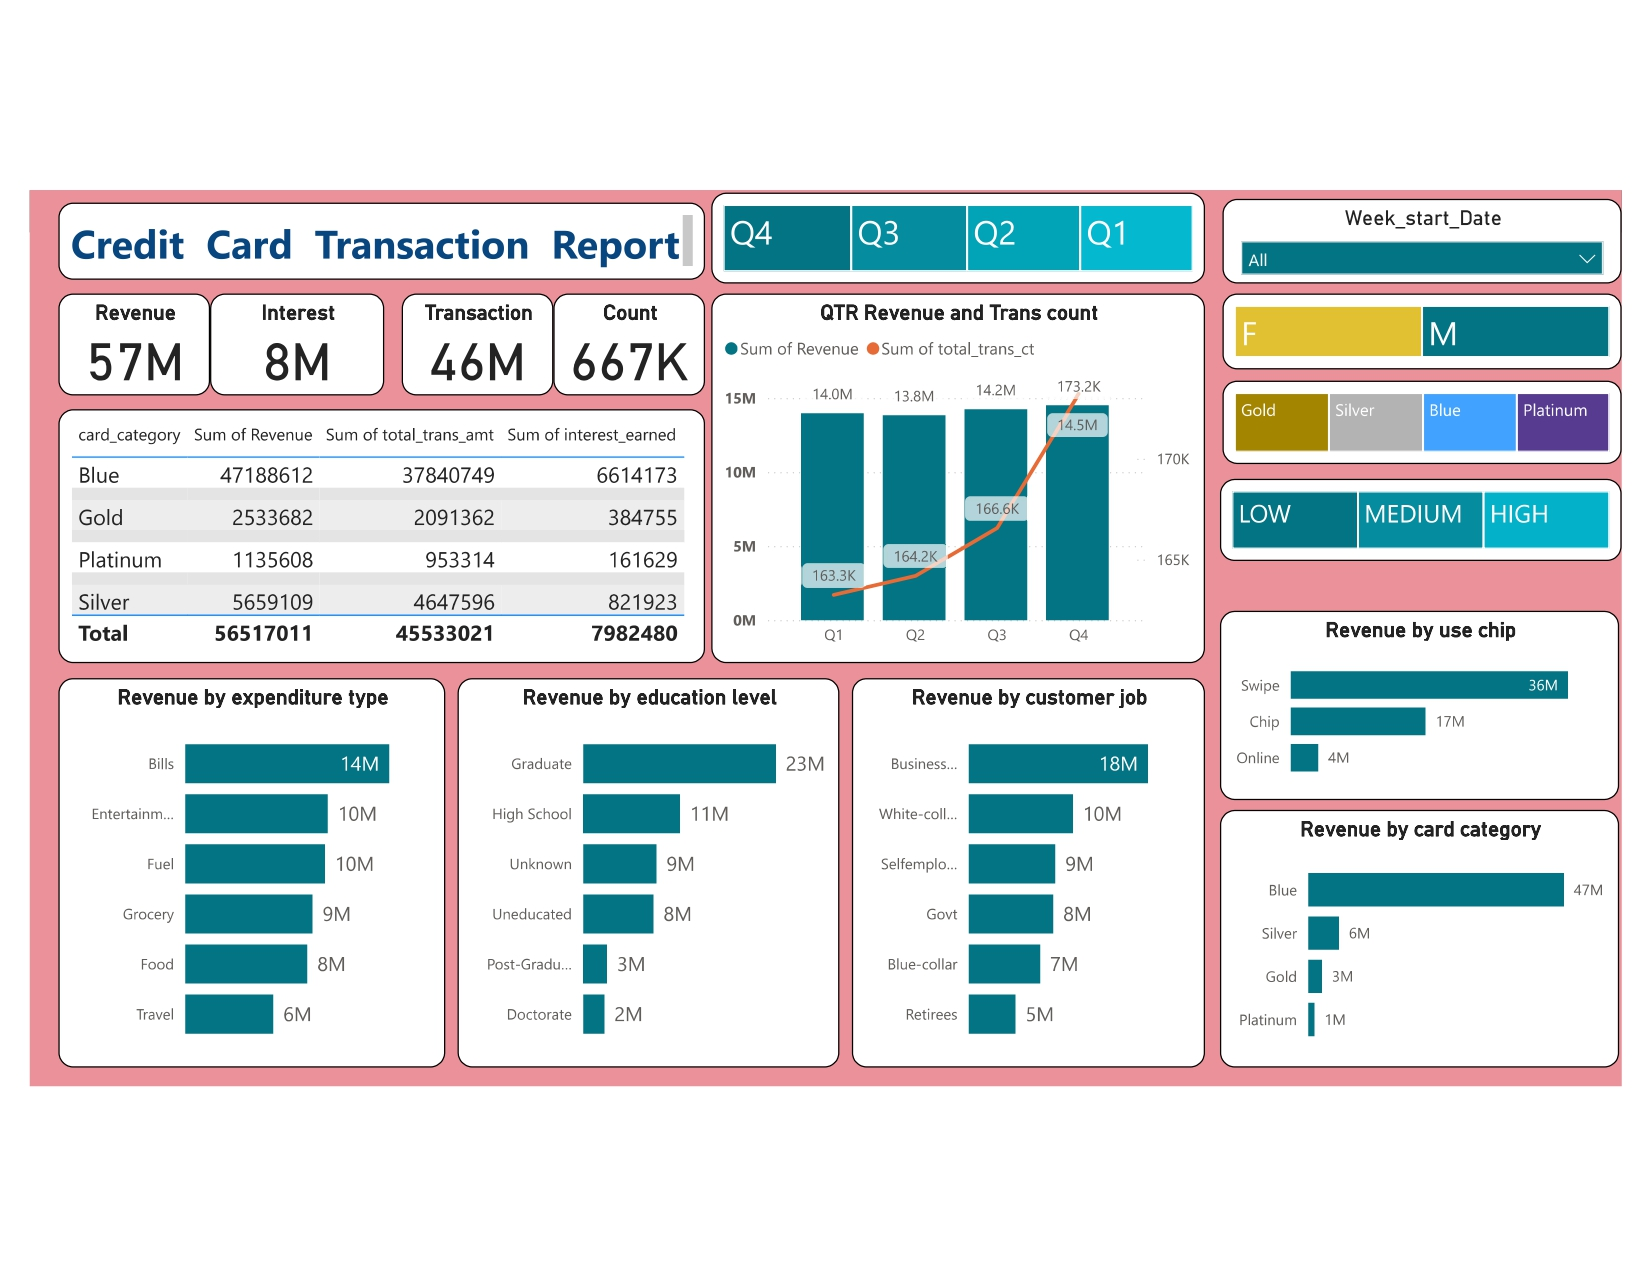

This screenshot's page, from the dashboard's own definition file:
{"tool":"powerbi","page":{"name":"CC Transaction","canvas":[1280,720],"ordinal":0},"visuals":[{"type":"textbox","box":[22.9,9.7,520,62.7],"z":0},{"type":"lineStackedColumnComboChart","title":"QTR Revenue and Trans count","fields":{"Category":["public cc_detail.qtr"],"Y":["Sum(public cc_detail.Revenue)"],"Y2":["Sum(public cc_detail.total_trans_ct)"]},"box":[547.7,83.2,396.9,296.8],"z":1000},{"type":"barChart","title":"Revenue by expenditure type","fields":{"Y":["Sum(public cc_detail.Revenue)"],"Category":["public cc_detail.exp_type"]},"box":[22.9,392.1,311.3,312.5],"z":2000},{"type":"barChart","title":"Revenue by education level","fields":{"Y":["Sum(public cc_detail.Revenue)"],"Category":["public cust_detail.education_level"]},"box":[343.8,392.1,307.6,312.5],"z":3000},{"type":"barChart","title":"Revenue by customer job","fields":{"Y":["Sum(public cc_detail.Revenue)"],"Category":["public cust_detail.customer_job"]},"box":[661.1,392.1,283.5,312.5],"z":4000},{"type":"barChart","title":"Revenue by card category","fields":{"Y":["Sum(public cc_detail.Revenue)"],"Category":["public cc_detail.card_category"]},"box":[956.7,498.3,320.9,206.3],"z":5000},{"type":"barChart","title":"Revenue by use chip","fields":{"Y":["Sum(public cc_detail.Revenue)"],"Category":["public cc_detail.use_chip"]},"box":[956.7,337.8,320.9,152],"z":6000},{"type":"tableEx","fields":{"Values":["public cc_detail.card_category","Sum(public cc_detail.Revenue)","Sum(public cc_detail.total_trans_amt)","Sum(public cc_detail.interest_earned)"]},"box":[22.9,176.1,520,203.9],"z":7000},{"type":"card","title":"Revenue","fields":{"Values":["Sum(public cc_detail.Revenue)"]},"box":[22.9,83.2,121.9,82],"z":8000},{"type":"card","title":"Interest","fields":{"Values":["Sum(public cc_detail.interest_earned)"]},"box":[144.8,83.2,139.9,82],"z":9000},{"type":"card","title":"Transaction","fields":{"Values":["Sum(public cc_detail.total_trans_amt)"]},"box":[299.2,83.2,121.9,82],"z":10000},{"type":"card","title":"Count","fields":{"Values":["Sum(public cc_detail.total_trans_ct)"]},"box":[421,83.2,122,82],"z":11000},{"type":"slicer","title":"Week_start_Date","fields":{"Values":["public cc_detail.week_start_date"]},"box":[959.1,7.2,320.9,67.6],"z":12000},{"type":"treemap","fields":{"Group":["public cc_detail.qtr"],"Values":["Avg(public cc_detail.client_num)"]},"box":[547.7,2.4,396.9,72.4],"z":13000},{"type":"treemap","fields":{"Group":["public cust_detail.gender"],"Values":["Avg(public cc_detail.client_num)"]},"box":[959.1,83.2,320.9,60.3],"z":14000},{"type":"treemap","fields":{"Group":["public cc_detail.card_category"],"Values":["Avg(public cc_detail.client_num)"]},"box":[959.1,153.2,320.9,66.4],"z":15000},{"type":"treemap","fields":{"Group":["public cust_detail.IncomeGroup"],"Values":["Avg(public cc_detail.client_num)"]},"box":[956.7,231.6,323.3,66.4],"z":16000}]}

Visuals, with their boxes in screenshot pixels (x1, y1, x2, y2):
textbox: {"x1": 67, "y1": 205, "x2": 704, "y2": 282}
"QTR Revenue and Trans count" lineStackedColumnComboChart: {"x1": 710, "y1": 295, "x2": 1197, "y2": 659}
"Revenue by expenditure type" barChart: {"x1": 67, "y1": 674, "x2": 448, "y2": 1057}
"Revenue by education level" barChart: {"x1": 460, "y1": 674, "x2": 837, "y2": 1057}
"Revenue by customer job" barChart: {"x1": 849, "y1": 674, "x2": 1197, "y2": 1057}
"Revenue by card category" barChart: {"x1": 1212, "y1": 804, "x2": 1605, "y2": 1057}
"Revenue by use chip" barChart: {"x1": 1212, "y1": 608, "x2": 1605, "y2": 794}
tableEx - public cc_detail.card_category x Sum(public cc_detail.Revenue): {"x1": 67, "y1": 409, "x2": 704, "y2": 659}
"Revenue" card: {"x1": 67, "y1": 295, "x2": 216, "y2": 396}
"Interest" card: {"x1": 216, "y1": 295, "x2": 388, "y2": 396}
"Transaction" card: {"x1": 406, "y1": 295, "x2": 555, "y2": 396}
"Count" card: {"x1": 555, "y1": 295, "x2": 704, "y2": 396}
"Week_start_Date" slicer: {"x1": 1215, "y1": 202, "x2": 1608, "y2": 285}
treemap - public cc_detail.qtr x Avg(public cc_detail.client_num): {"x1": 710, "y1": 196, "x2": 1197, "y2": 285}
treemap - public cust_detail.gender x Avg(public cc_detail.client_num): {"x1": 1215, "y1": 295, "x2": 1608, "y2": 369}
treemap - public cc_detail.card_category x Avg(public cc_detail.client_num): {"x1": 1215, "y1": 381, "x2": 1608, "y2": 463}
treemap - public cust_detail.IncomeGroup x Avg(public cc_detail.client_num): {"x1": 1212, "y1": 477, "x2": 1608, "y2": 559}
